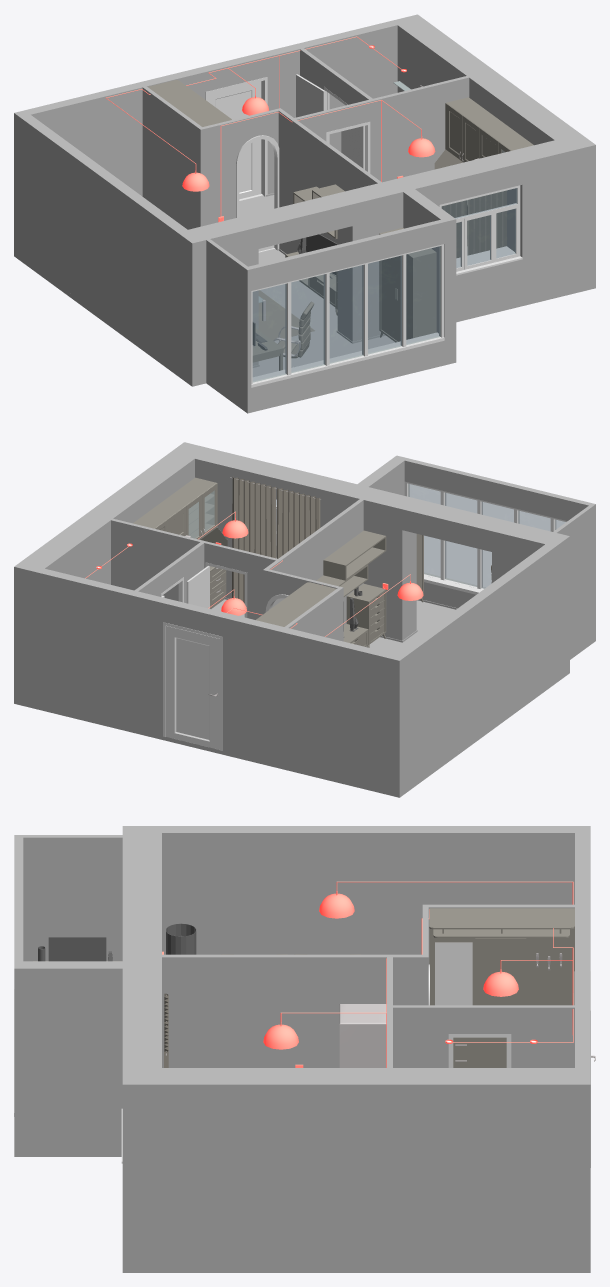
The picture shows the model from 3 angles, top to bottom: view 1: azimuth 30°, elevation 25°; view 2: azimuth 150°, elevation 25°; view 3: azimuth 270°, elevation 25°; orthographic projection. The views are drawn at different scales.
Visible parts, largest first — view 1: Wall, Glass, Door, Floor, Object112_wood_0, okap, Line001, Line003, Object103_wood_0, object 48, Object122_fabric_0, object 51 (+2 smaller); view 2: Wall, Door, Line001, Object103_wood_0, Floor, okap, Glass, Line003, object 48, szyba; view 3: Wall, Line003, Floor, object 6, Object098_Mirror_0, object 48, Object107_Decor_0, object 51, Door, Object108_Decor_0.
Boxes of the visible parts, left/top/right/bottom form: Wall: left=14, top=14, right=595, bottom=409; Glass: left=253, top=188, right=516, bottom=382; Door: left=205, top=74, right=522, bottom=387; Floor: left=14, top=195, right=595, bottom=413; Object112_wood_0: left=379, top=227, right=436, bottom=342; okap: left=434, top=97, right=533, bottom=245; Line001: left=441, top=190, right=506, bottom=257; Line003: left=148, top=80, right=231, bottom=126; Object103_wood_0: left=285, top=184, right=344, bottom=315; object 48: left=182, top=45, right=435, bottom=191; Object122_fabric_0: left=258, top=290, right=314, bottom=340; object 51: left=106, top=36, right=421, bottom=216; Wall: left=14, top=442, right=595, bottom=793; Door: left=161, top=481, right=567, bottom=750; Line001: left=232, top=476, right=320, bottom=603; Object103_wood_0: left=316, top=530, right=386, bottom=647; Floor: left=14, top=599, right=595, bottom=797; okap: left=133, top=477, right=227, bottom=608; Glass: left=276, top=484, right=565, bottom=588; Line003: left=256, top=582, right=336, bottom=626; object 48: left=96, top=518, right=423, bottom=615; szyba: left=188, top=490, right=214, bottom=538; Wall: left=14, top=826, right=590, bottom=1267; Line003: left=429, top=908, right=574, bottom=1067; Floor: left=14, top=1151, right=590, bottom=1272; object 6: left=165, top=995, right=386, bottom=1067; Object098_Mirror_0: left=435, top=942, right=472, bottom=1005; object 48: left=263, top=891, right=537, bottom=1049; Object107_Decor_0: left=38, top=937, right=112, bottom=961; object 51: left=280, top=881, right=573, bottom=1067; Door: left=14, top=964, right=590, bottom=1167; Object108_Decor_0: left=166, top=923, right=196, bottom=954.
Bounding box in the file's own units: 5.99 × 2.03 × 5.69.
